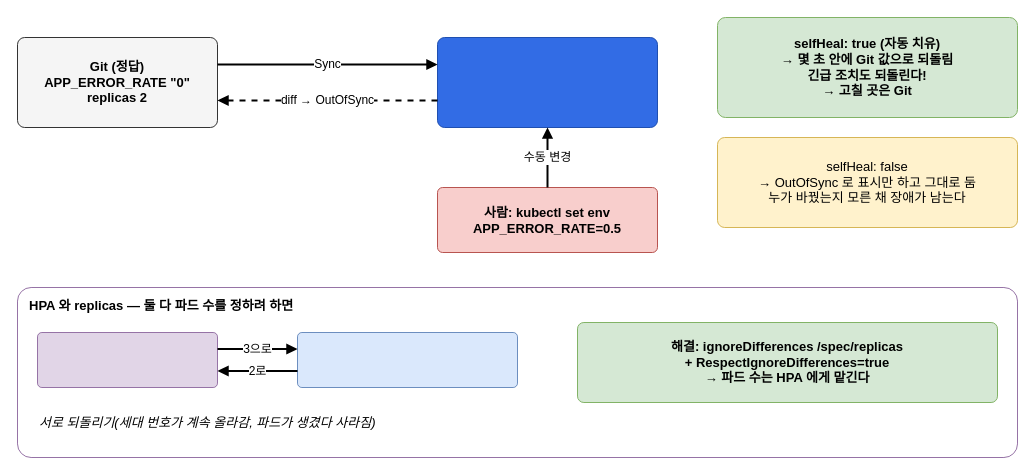
This 1035x475 diagram has some shape labels left out. Each missing label, with the centre of its shape:
"Argo CD: Git 의 replicas 2" goes at (407,360).
"HPA: 최소 3개" goes at (127,360).
"클러스터 (실제) Deployment opslab-app" goes at (547,82).
